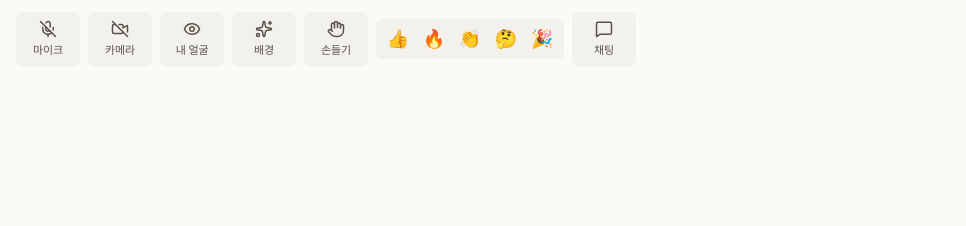
Test case: MeetRoom › decode 불가 메시지는 무시한다(빈 상태 유지)
Click the button "채팅": (604, 39) [572,12,636,66]
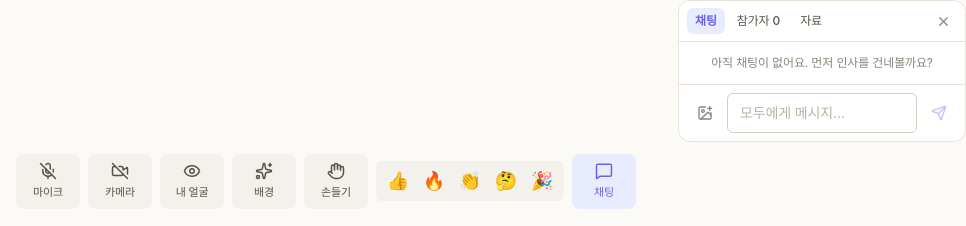
Result: the text "아직 채팅이 없어요. 먼저 인사를 건네볼까요?" is shown at [711,54,933,72]
